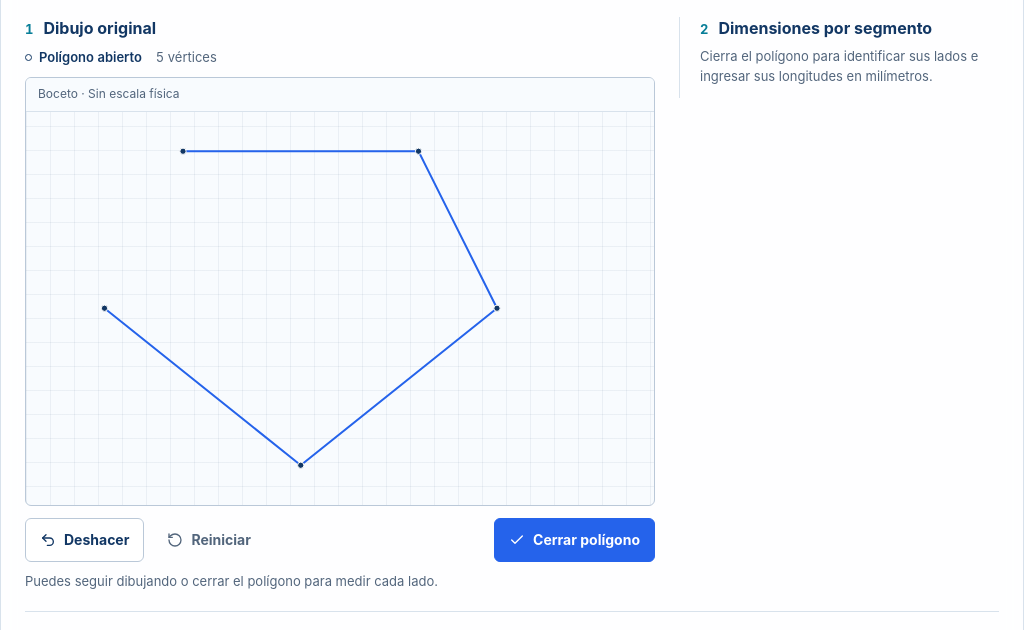
Test: HU-007 T02 — dimensiones y selección (caja negra) › T02-C06: longitudes 1000/100/100/100/100 informan imposibilidad sin convexidad
Click the button "Cerrar polígono" at x=575, y=540, box [494,518,655,562]
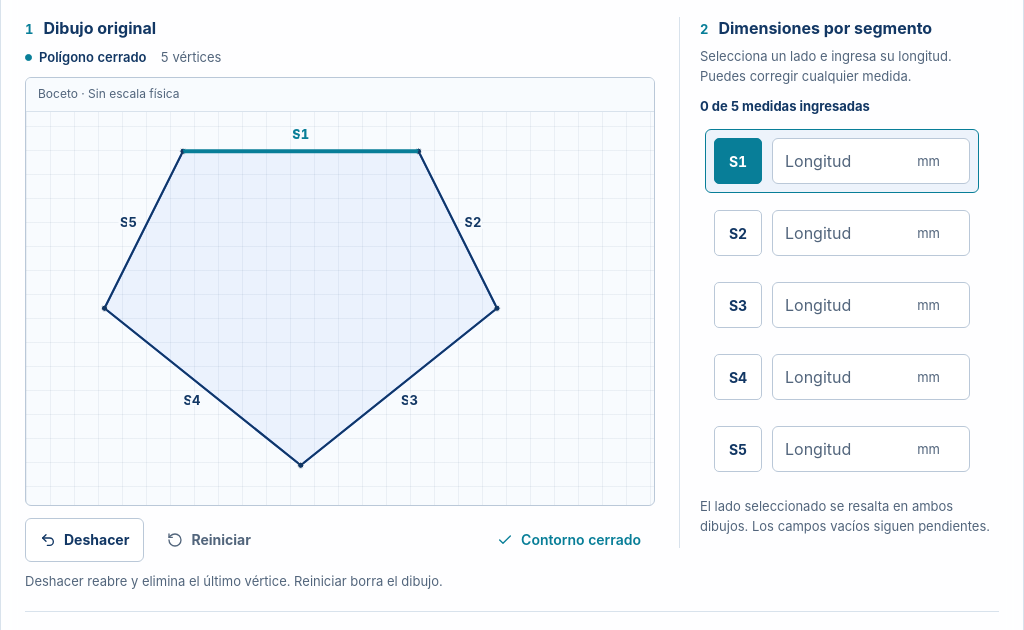
Type "1000" into the 1st number field with placeholder "Longitud" at x=871, y=161, box [772,138,970,184]
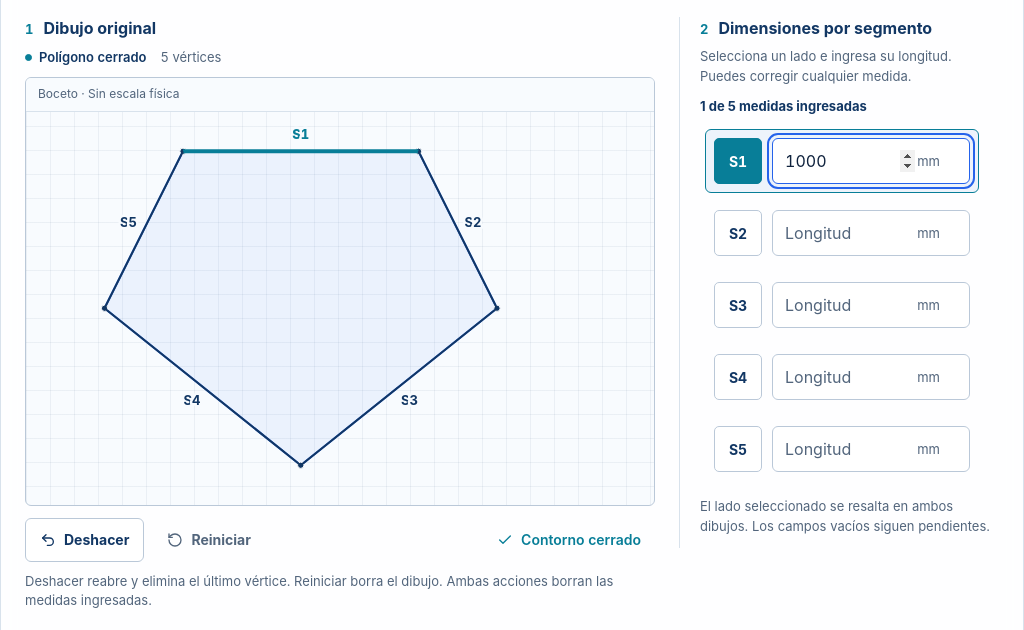
Type "100" into the 1st number field with placeholder "Longitud" at x=871, y=233, box [772,210,970,256]
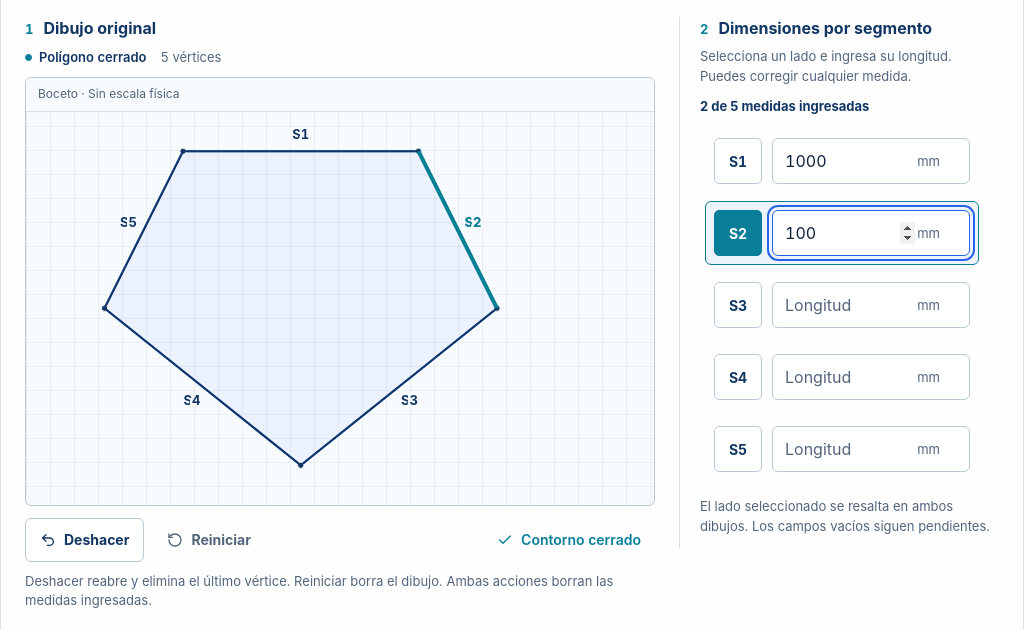
Type "100" into the 1st number field with placeholder "Longitud" at x=871, y=305, box [772,282,970,328]
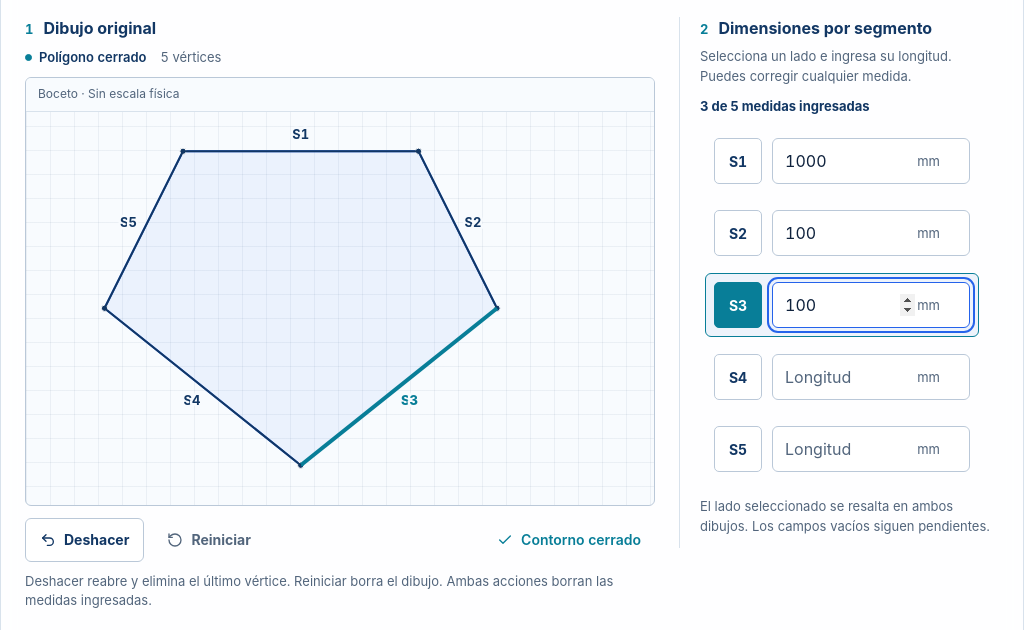
Type "100" into the 1st number field with placeholder "Longitud" at x=871, y=377, box [772,354,970,400]
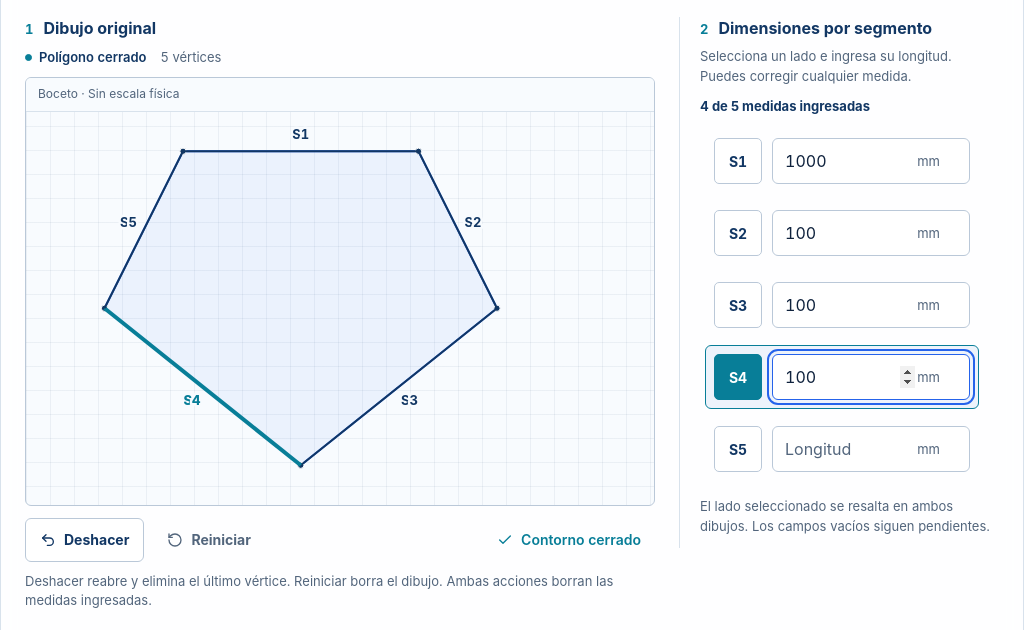
Type "100" into the number field with placeholder "Longitud" at x=871, y=449, box [772,426,970,472]
(page scrolled)
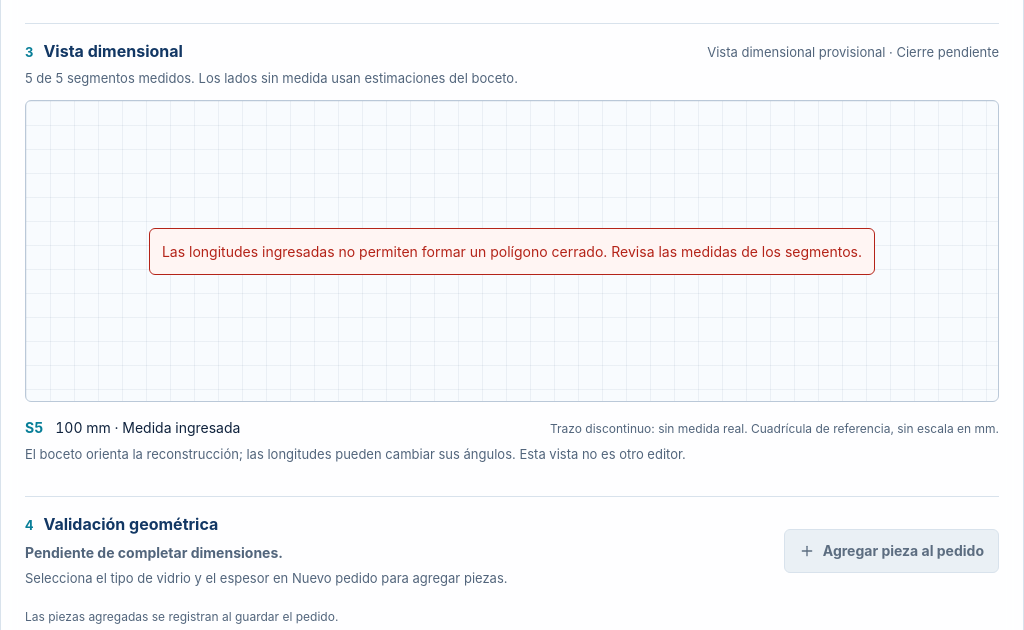
Expected: the 2nd message does not show "convex", [149,228,875,275]
Now the 2nd message shows "Las longitudes ingresadas no permiten formar un polígono cerrado.", box [162,243,862,260]
